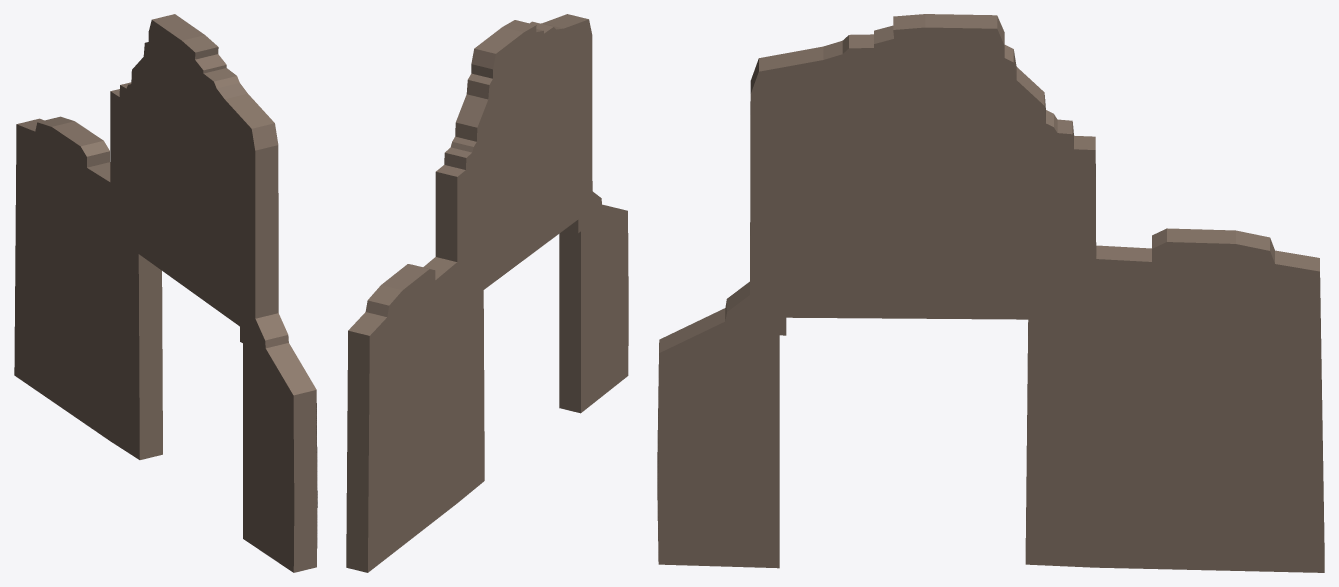
3 renders of one model, left to right at view 1: azimuth 30°, elevation 25°; view 2: azimuth 150°, elevation 25°; view 3: azimuth 270°, elevation 25°, orthographic. The views are drawn at different scales.
Visible parts, largest first — view 1: Plane; view 2: Plane; view 3: Plane.
Boxes of the visible parts, x1,y1,x2,y2 form: Plane: (14,14,317,572); Plane: (346,14,628,572); Plane: (657,14,1324,572).
Size of the model in its own units: 0.1273 by 2.4 by 2.66.
